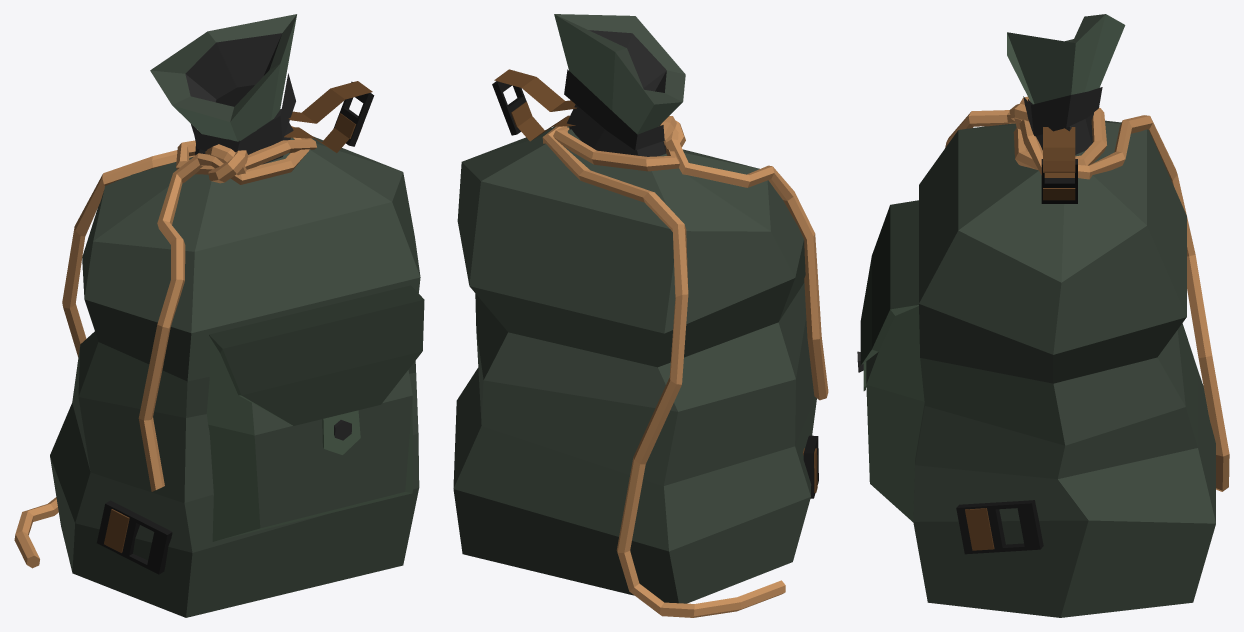
Rendered from LootSack_3D.glb.
3 renders of one model, left to right at view 1: azimuth 30°, elevation 25°; view 2: azimuth 150°, elevation 25°; view 3: azimuth 270°, elevation 25°, orthographic. The views are drawn at different scales.
Visible parts, largest first — view 1: LootSack_3D; view 2: LootSack_3D; view 3: LootSack_3D.
Boxes of the visible parts, x1,y1,x2,y2 form: LootSack_3D: (14,14,424,617); LootSack_3D: (453,14,828,617); LootSack_3D: (857,14,1229,617).
Bounding box in the file's own units: 0.5002 × 0.6794 × 0.4238.
Materials: 1 (1 with a texture image).
